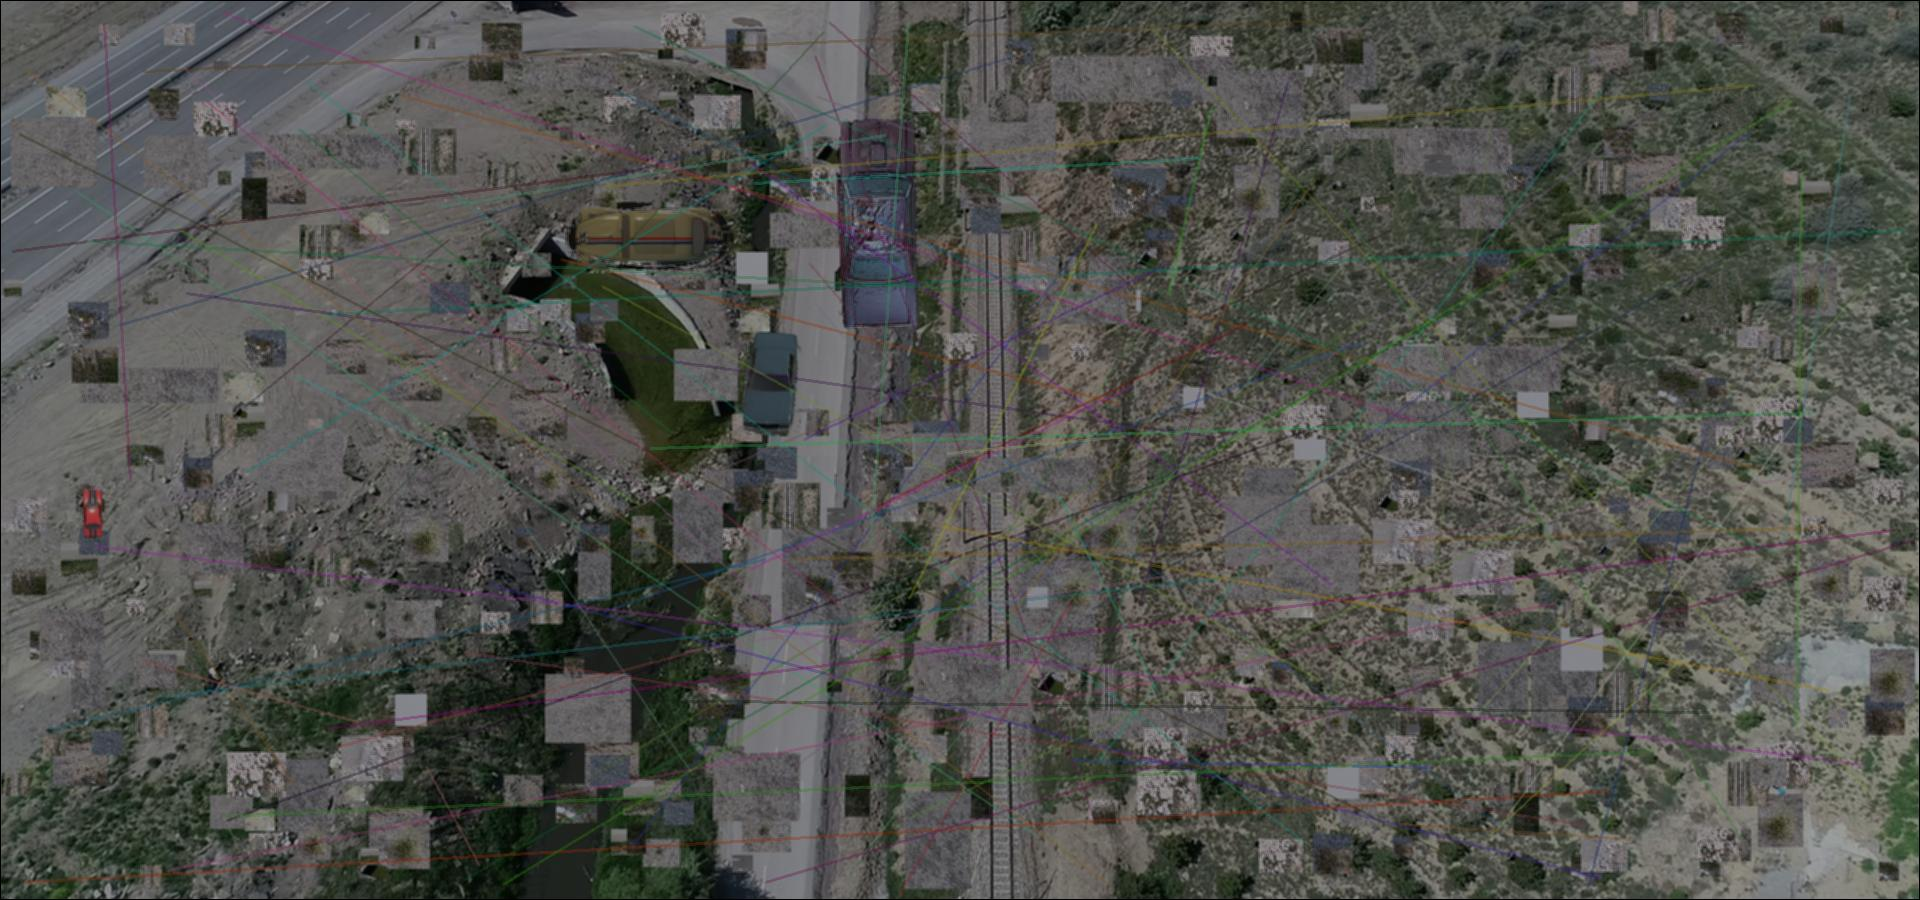arac: (828, 116, 926, 333), (563, 201, 737, 276), (743, 331, 801, 436), (81, 487, 105, 539)
